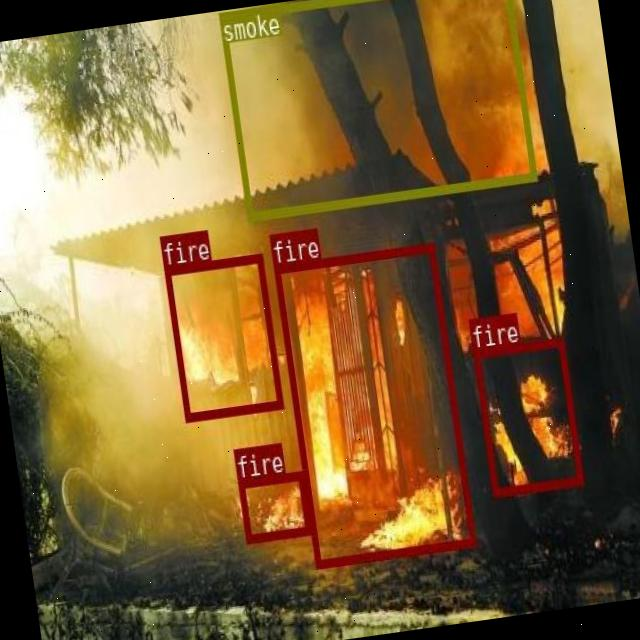fire: (272, 242, 475, 568), (163, 254, 282, 421), (472, 338, 582, 494), (238, 470, 310, 542)
smoke: (217, 0, 535, 220)
